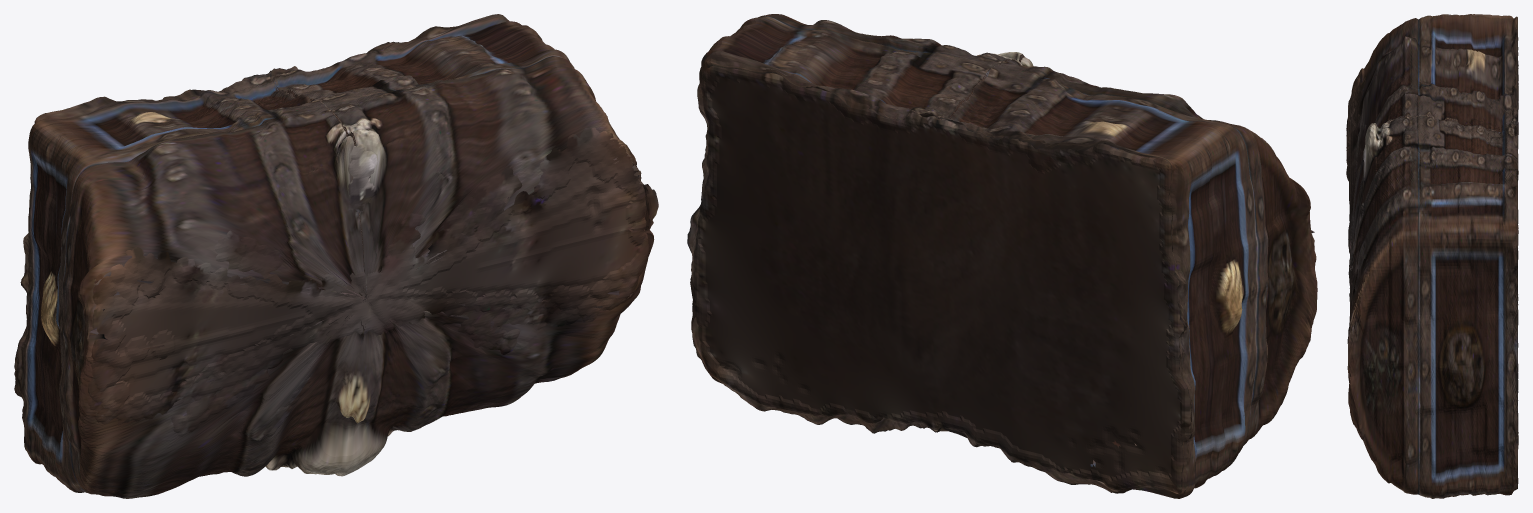
The model's file is mesh_inpaint.glb.
3 views of the same model, side by side, from view 1: azimuth 30°, elevation 25°; view 2: azimuth 150°, elevation 25°; view 3: azimuth 270°, elevation 25° (orthographic). The views are drawn at different scales.
Visible parts, largest first — view 1: ipn, fill; view 2: fill, ipn; view 3: ipn, fill.
Boxes of the visible parts, x1,y1,x2,y2 form: ipn: (14,14,658,498); fill: (20,34,649,448); fill: (693,58,1297,493); ipn: (687,14,1317,498); ipn: (1347,14,1517,498); fill: (1346,20,1518,490).
Bounding box in the file's own units: 1.96 × 1.21 × 0.5913.
Materials: 2 (1 with a texture image).
